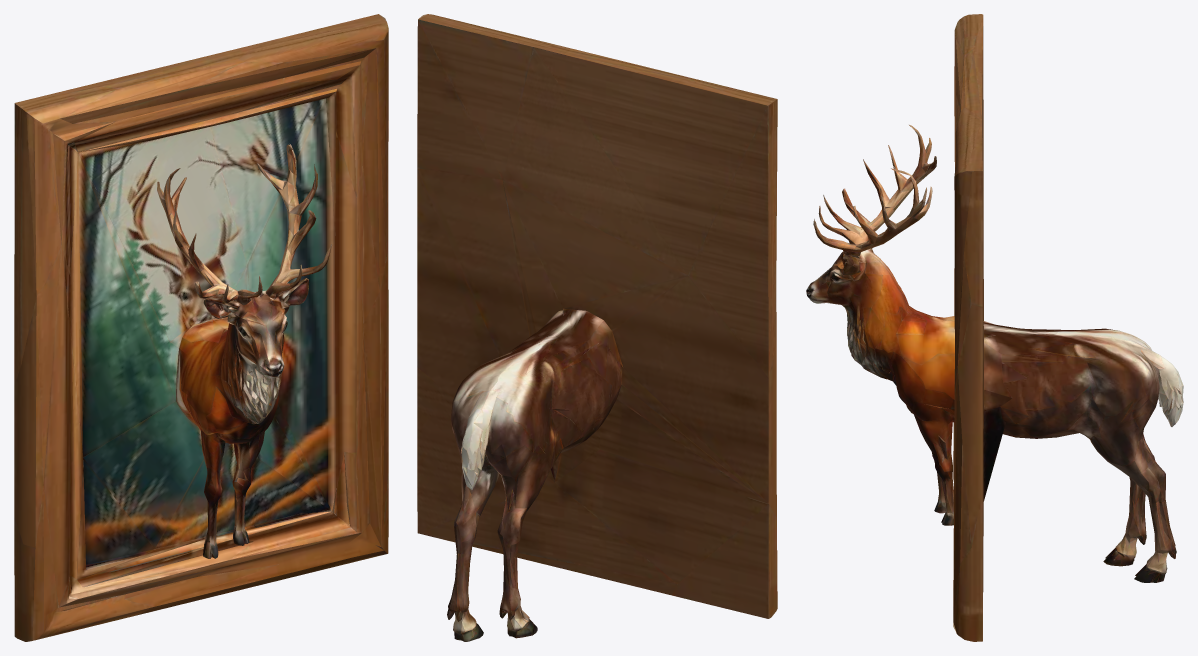
File: picture_deer.glb
3 views of the same model, side by side, from view 1: azimuth 30°, elevation 25°; view 2: azimuth 150°, elevation 25°; view 3: azimuth 270°, elevation 25° (orthographic). The views are drawn at different scales.
Bounding box in the file's own units: 1.36 × 1.9 × 1.38.
Materials: 1 (1 with a texture image).
